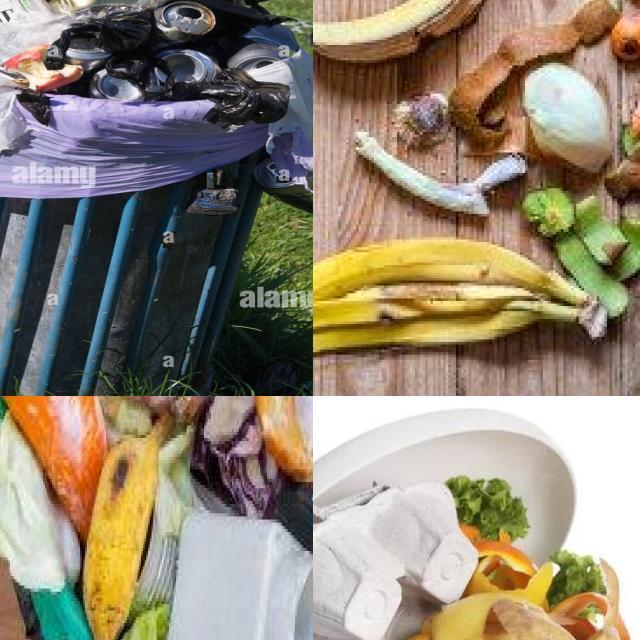Garbage: (313, 0, 640, 370), (0, 396, 313, 640), (313, 414, 629, 640)
Metal: (131, 425, 200, 614), (49, 0, 139, 15)
Plastic_Bag: (45, 11, 170, 88), (0, 0, 168, 54), (145, 68, 290, 129), (164, 0, 294, 29), (0, 13, 74, 57)
Plastic_bottle: (166, 511, 313, 640)
can: (227, 24, 300, 70), (254, 159, 313, 215), (149, 1, 216, 49), (156, 49, 220, 82), (89, 70, 143, 100), (63, 39, 112, 71), (145, 67, 168, 92)
contaminated_waste: (313, 480, 477, 640), (166, 514, 313, 640), (131, 520, 183, 613)
